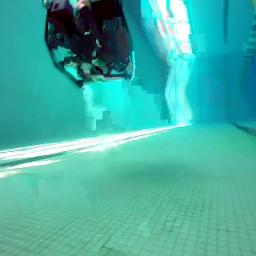front: (42, 0, 134, 87)
